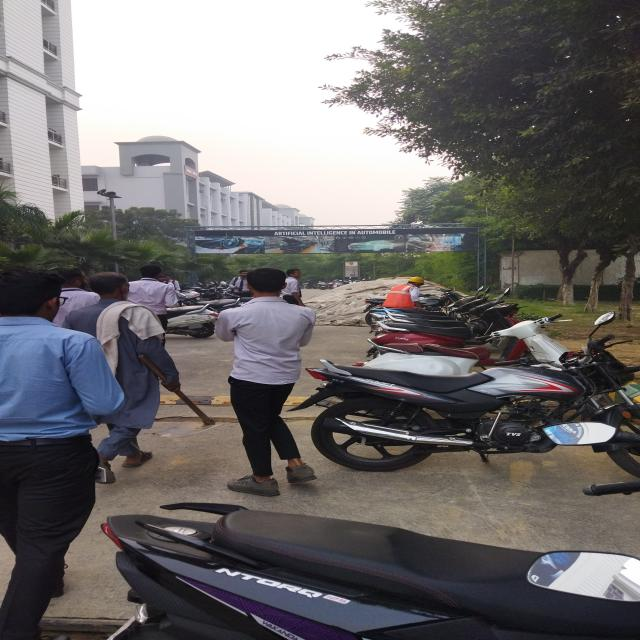safe: (386, 275, 428, 310)
unsafe: (216, 269, 324, 493), (2, 268, 106, 500), (76, 271, 180, 472)
